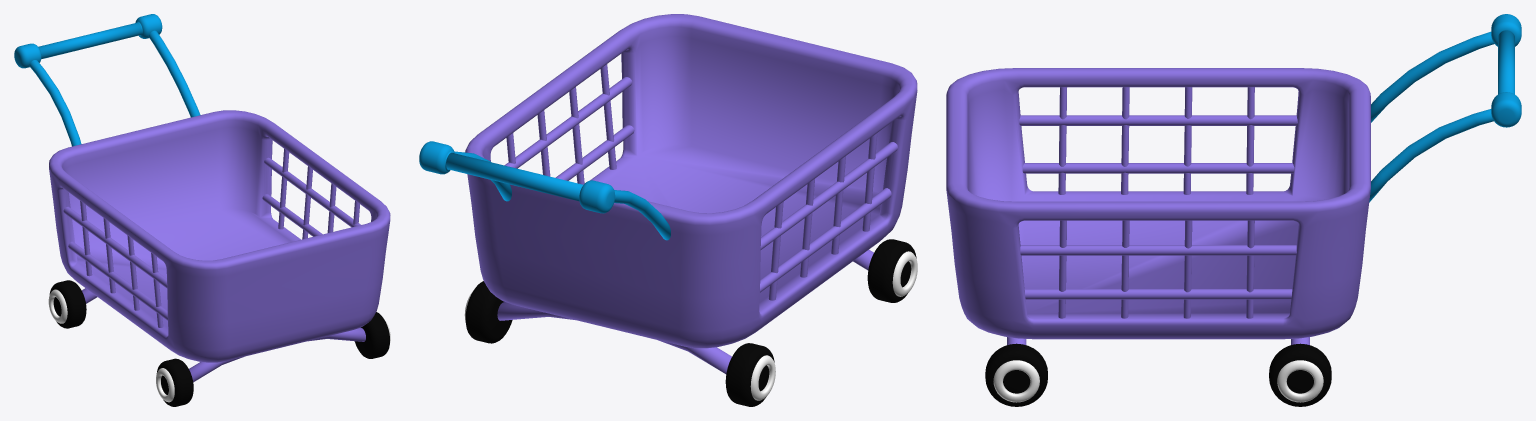
The model's file is sepetAraba.fbx.
The picture shows the model from 3 angles, left to right: view 1: azimuth 30°, elevation 25°; view 2: azimuth 150°, elevation 25°; view 3: azimuth 270°, elevation 25°; orthographic projection. The views are drawn at different scales.
Visible parts, largest first — view 1: sepetAraba; view 2: sepetAraba; view 3: sepetAraba.
Boxes of the visible parts, x1,y1,x2,y2 form: sepetAraba: [14, 14, 390, 406]; sepetAraba: [419, 14, 917, 406]; sepetAraba: [946, 14, 1521, 406].
Size of the model in its own units: 152 by 141 by 259.
